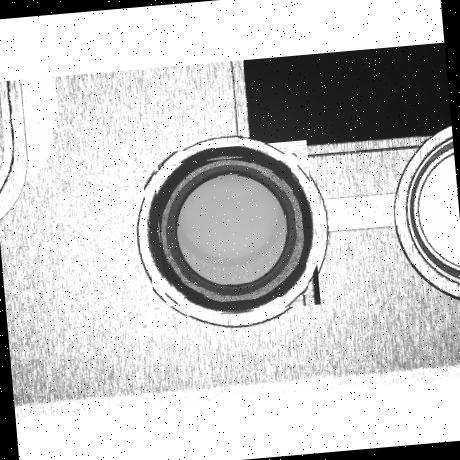Hole: (141, 140, 321, 320)
Hole2: (154, 153, 308, 307)
Hole3: (161, 159, 301, 299)
Hole4: (172, 171, 290, 289)
